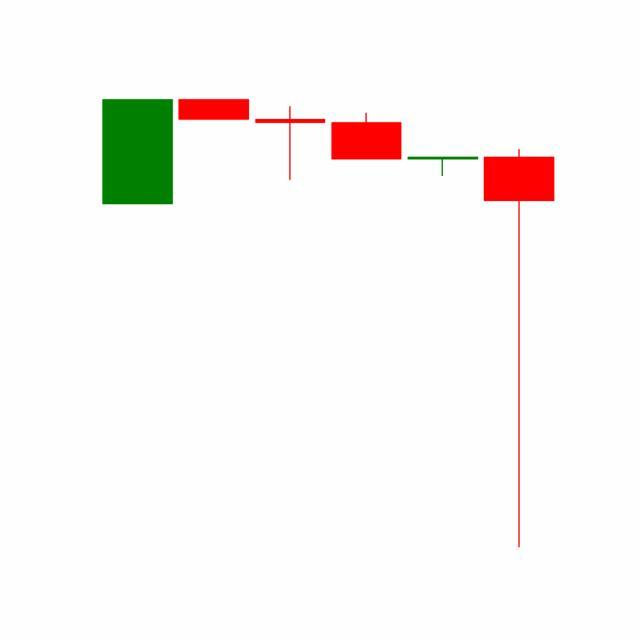Dragonfly Doji: (404, 157, 482, 178)
